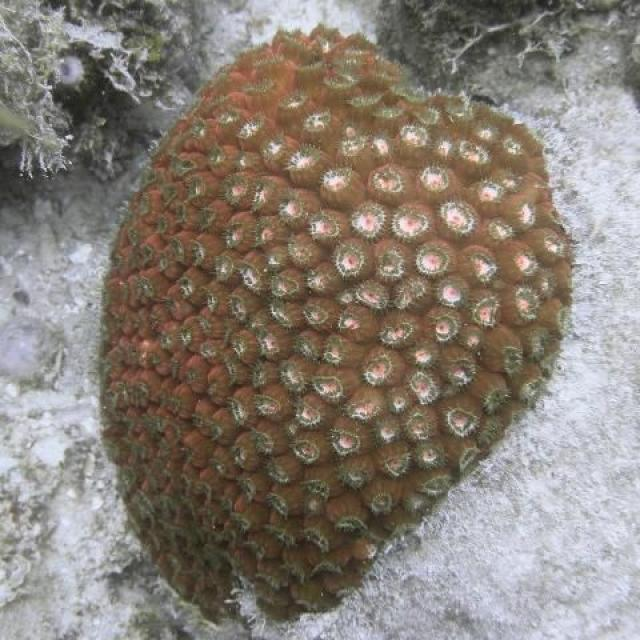Coral: (99, 24, 574, 627)
